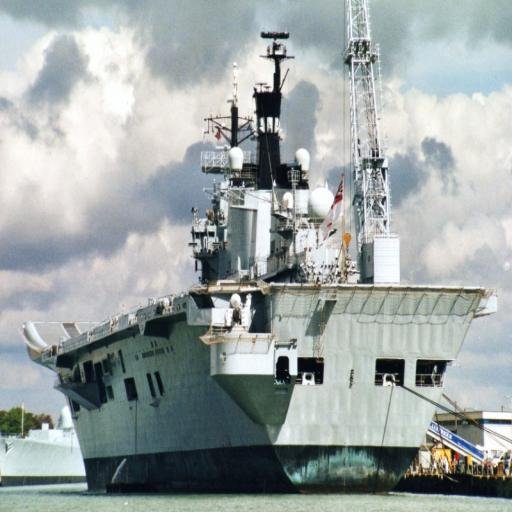Portanaves: (14, 25, 490, 493)
